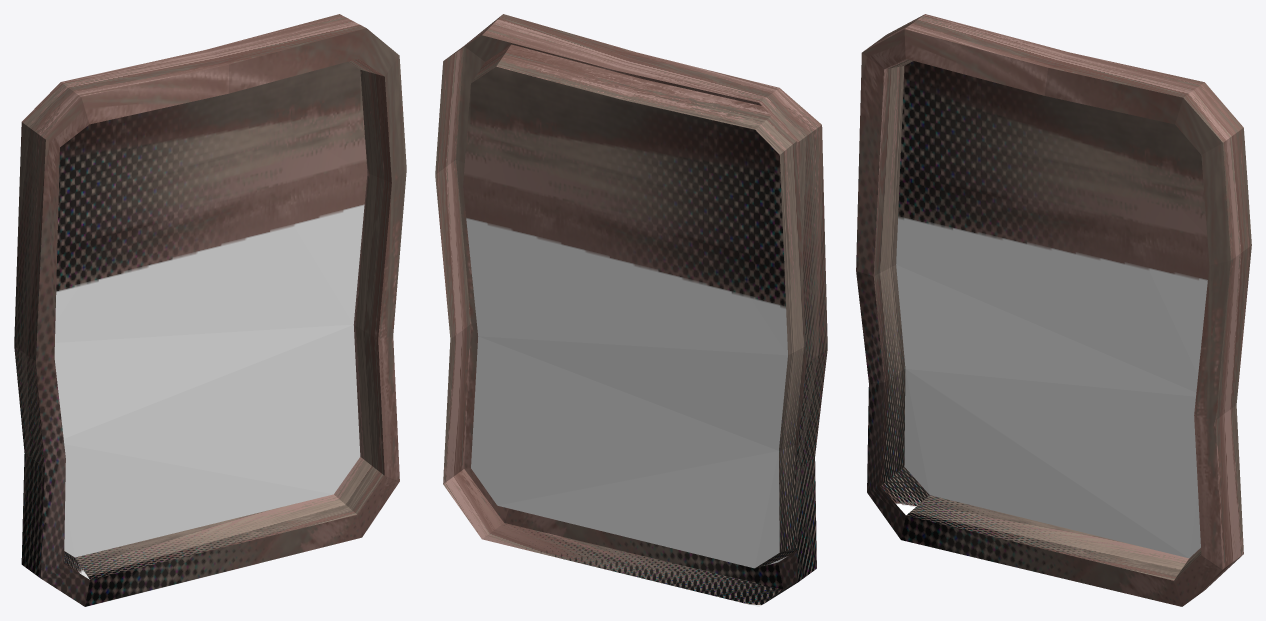
Rendered from mirror.obj.
The picture shows the model from 3 angles, left to right: view 1: azimuth 30°, elevation 25°; view 2: azimuth 150°, elevation 25°; view 3: azimuth 330°, elevation 25°; orthographic projection.
Parts seen in each view (by area): view 1: Cube.002; view 2: Cube.002; view 3: Cube.002.
Part boxes in pixels (bbox=[...]): Cube.002: bbox=[14, 14, 406, 606]; Cube.002: bbox=[435, 14, 827, 606]; Cube.002: bbox=[856, 14, 1251, 606].
Size of the model in its own units: 0.6567 by 0.8594 by 0.0766.
